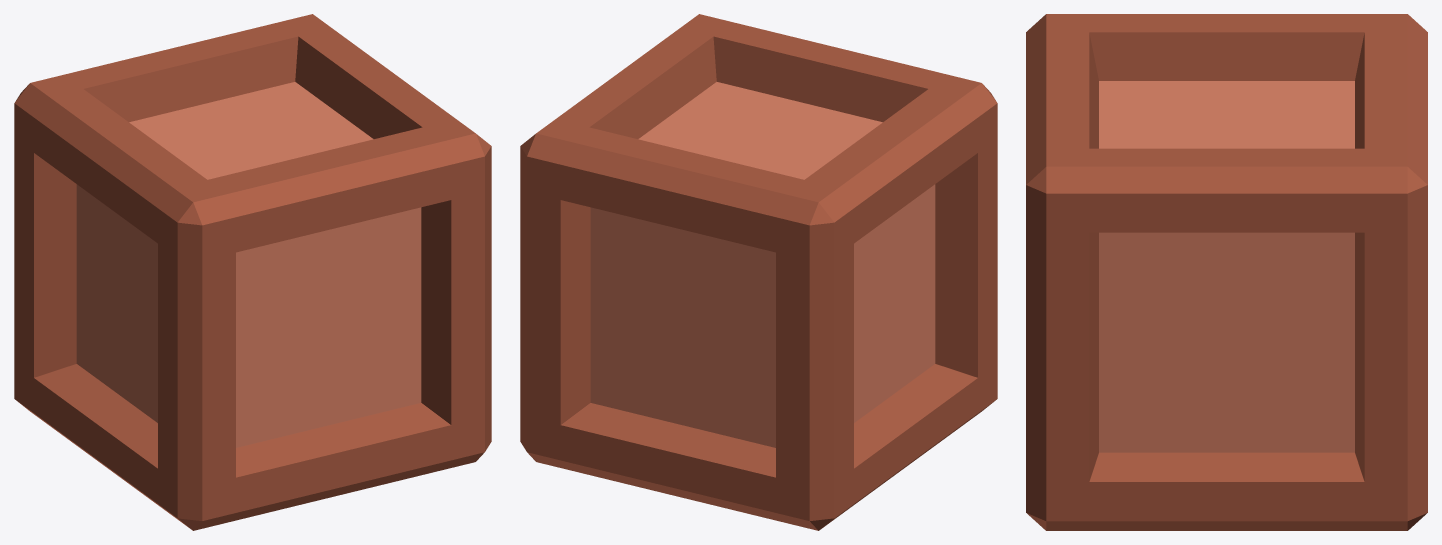
Rendered from Box_Large.fbx.
The picture shows the model from 3 angles, left to right: view 1: azimuth 30°, elevation 25°; view 2: azimuth 150°, elevation 25°; view 3: azimuth 270°, elevation 25°; orthographic projection. The views are drawn at different scales.
Visible parts, largest first — view 1: Box_Large; view 2: Box_Large; view 3: Box_Large.
Boxes of the visible parts, left/top/right/bottom form: Box_Large: left=14, top=14, right=491, bottom=530; Box_Large: left=520, top=14, right=997, bottom=530; Box_Large: left=1026, top=14, right=1427, bottom=530.
Bounding box in the file's own units: 0.2672 × 0.2672 × 0.2672.
Materials: 1 (1 with a texture image).
